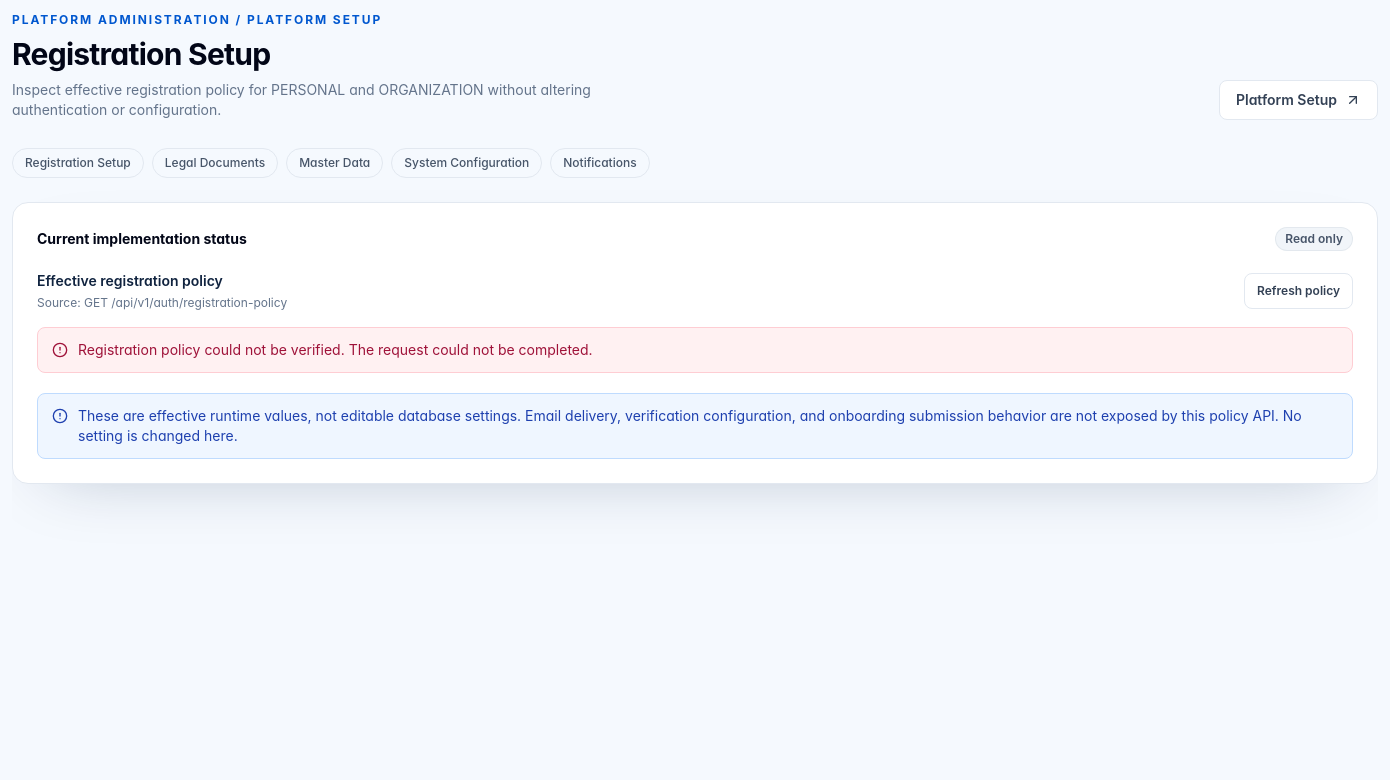
Test case: Platform Setup foundation › does not infer policy or request Terms when the policy API fails; supports retry
The image size is (1390, 780).
Expected: the text "Registration policy could not be verified" is shown, [78,341,349,358]
Click the button "Refresh policy". click: (1299, 291)
box: [1244,273,1353,309]
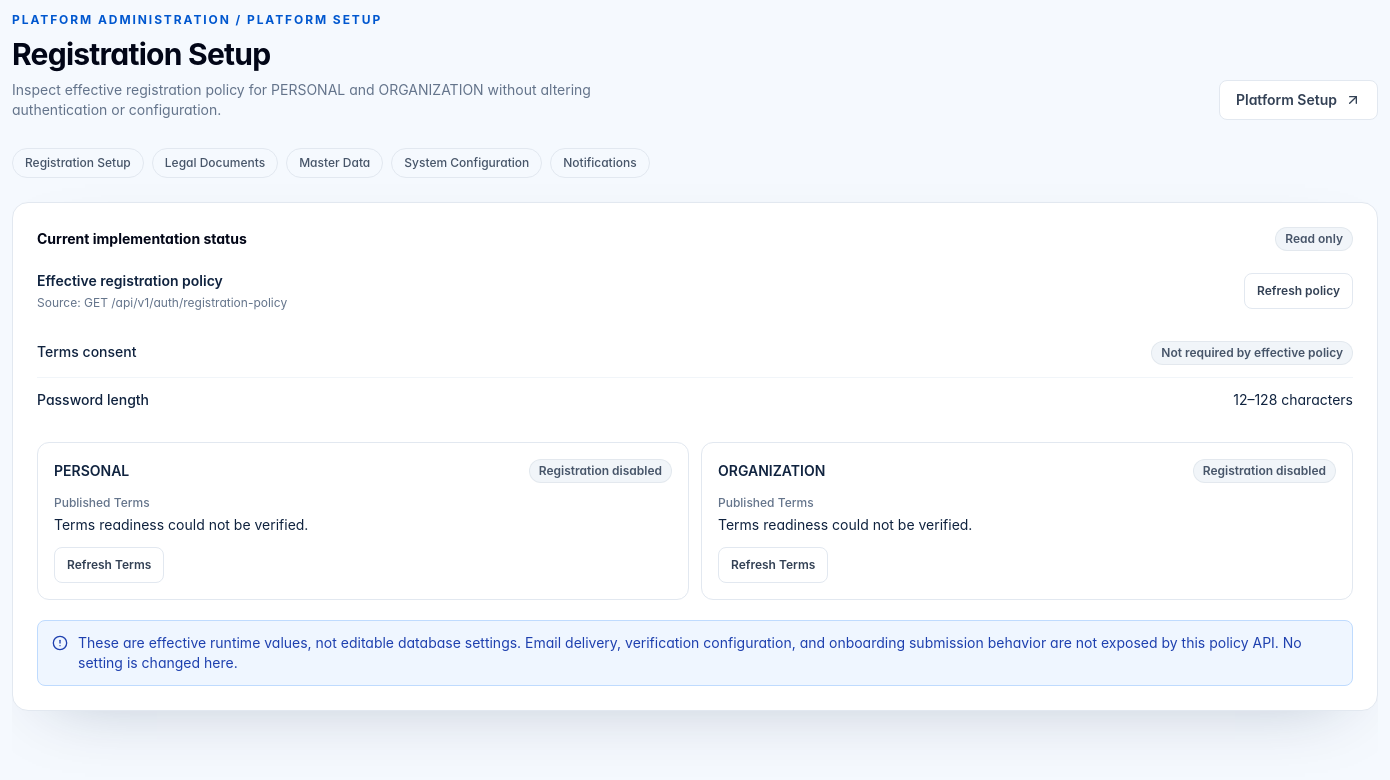
Now the text "Not required by effective policy" is shown, box [1151,341,1353,365]
Now the text "Terms readiness could not be verified." is shown 2 times, box [54,516,308,533]; [718,516,972,533]
